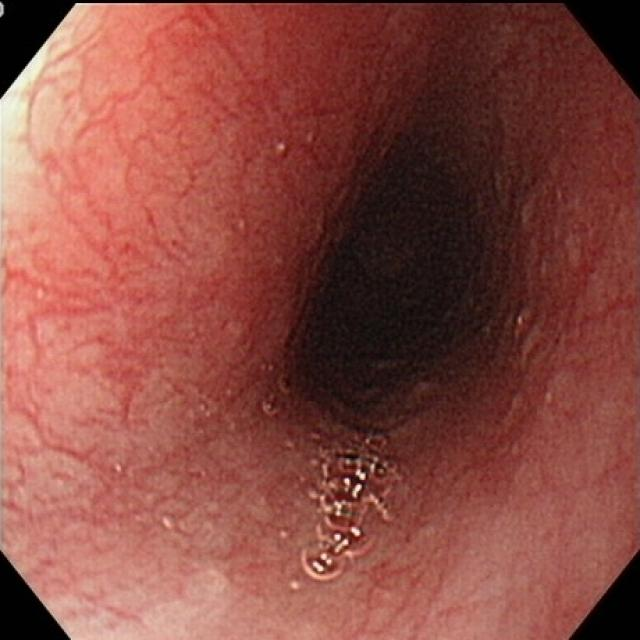A: (502, 169, 638, 362)
E: (318, 155, 492, 396)
T: (302, 426, 407, 585)
